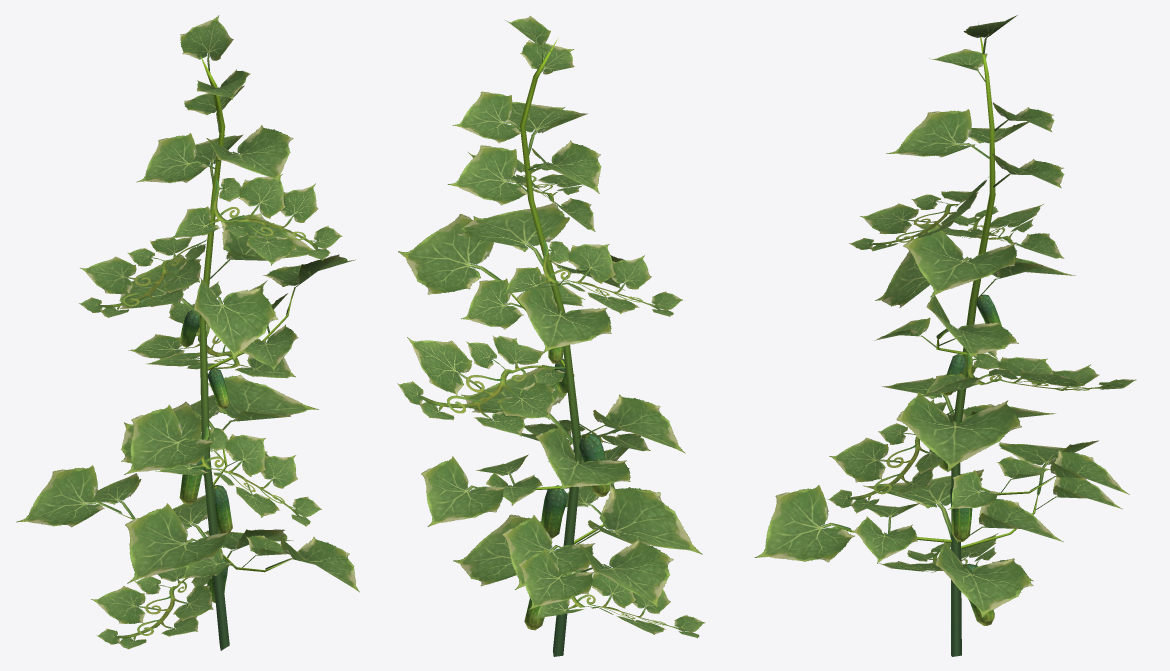
Rendered from plant_cucumber_S3.fbx.
The picture shows the model from 3 angles, left to right: view 1: azimuth 30°, elevation 25°; view 2: azimuth 150°, elevation 25°; view 3: azimuth 270°, elevation 25°; orthographic projection. The views are drawn at different scales.
Visible parts, largest first — view 1: plant_cucumber_S3, plant_cucumber_S3_crop; view 2: plant_cucumber_S3, plant_cucumber_S3_crop; view 3: plant_cucumber_S3, plant_cucumber_S3_crop.
Part boxes in pixels (x1=…): plant_cucumber_S3: x1=16, y1=15, x2=359, y2=650; plant_cucumber_S3_crop: x1=179, y1=310, x2=232, y2=603; plant_cucumber_S3: x1=397, y1=16, x2=704, y2=656; plant_cucumber_S3_crop: x1=524, y1=346, x2=610, y2=630; plant_cucumber_S3: x1=754, y1=15, x2=1136, y2=656; plant_cucumber_S3_crop: x1=939, y1=294, x2=1001, y2=625.
Size of the model in its own units: 72.78 by 143 by 80.44.
